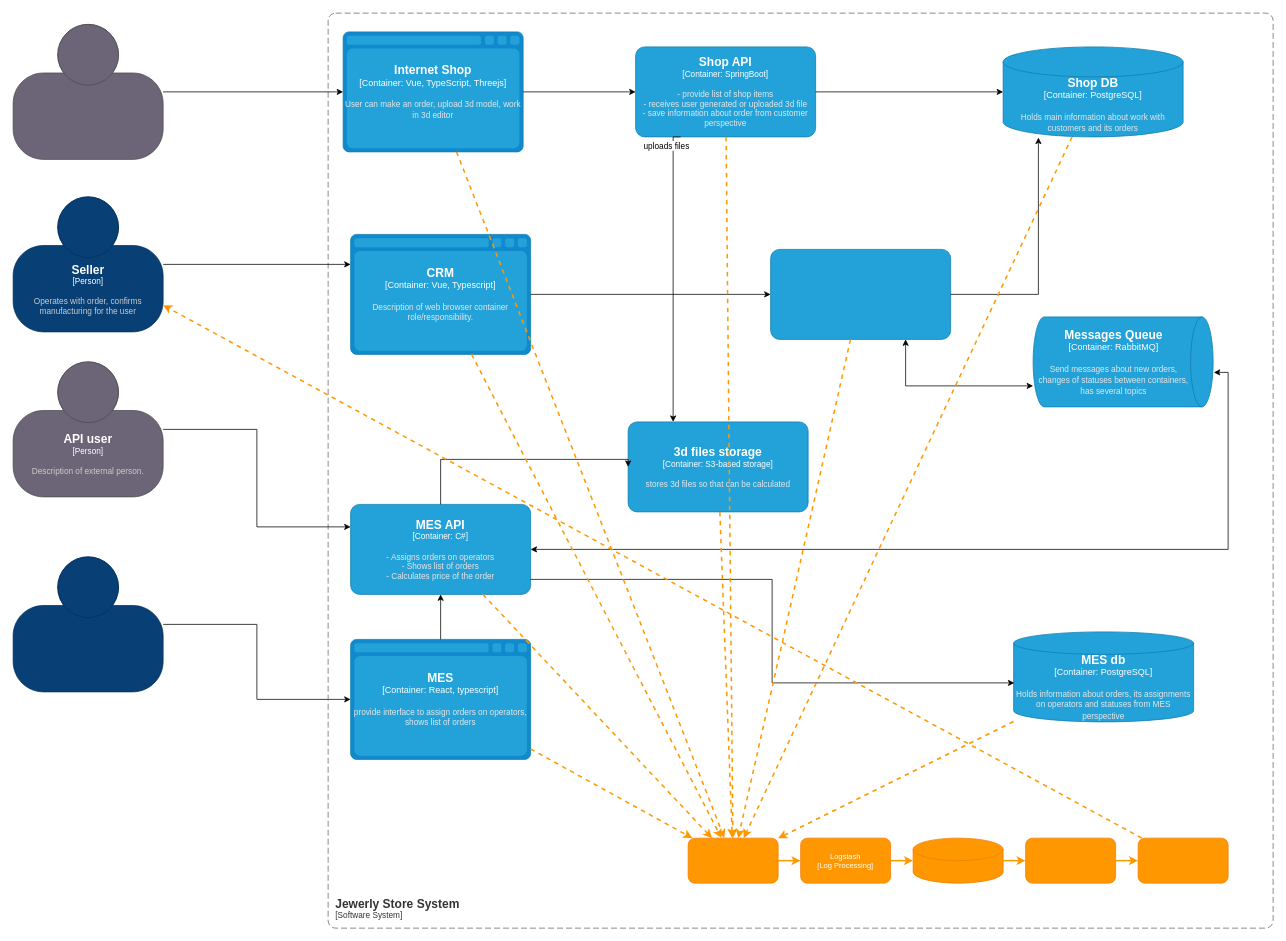
Some shapes in this 1286 by 941 pixel diagram are drawn without their labels. The box of each missing label's shape, as (x1, y1, x2, y2) in pixels:
CRM API [Container: SpringBoot] Description of container role/responsibility.: (770, 249, 951, 339)
Customer [Person] Description of external person.: (12, 24, 163, 159)
Elasticsearch [Log Storage]: (912, 837, 1003, 883)
Filebeat [Log Collection]: (687, 837, 778, 883)
Kibana [Dashboard]: (1137, 837, 1228, 883)
Kibana [Log Analytics]: (1025, 837, 1116, 883)
Operator [Person] Takes order in work, manufactures jewerly: (12, 556, 163, 692)
